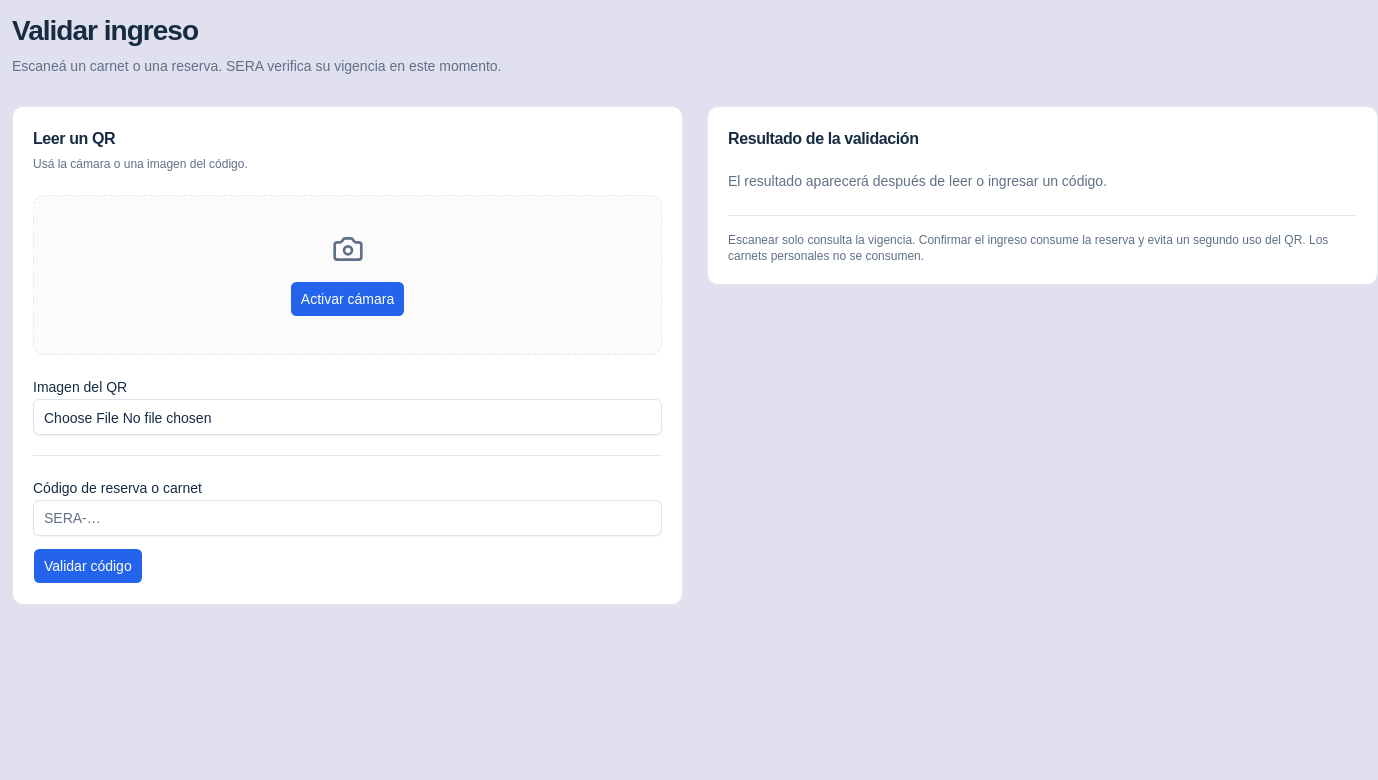
Validación de acceso › lee una vez y libera la cámara al detectar el QR
Click the button "Activar cámara".
click(348, 299)  # box [290,281,405,317]
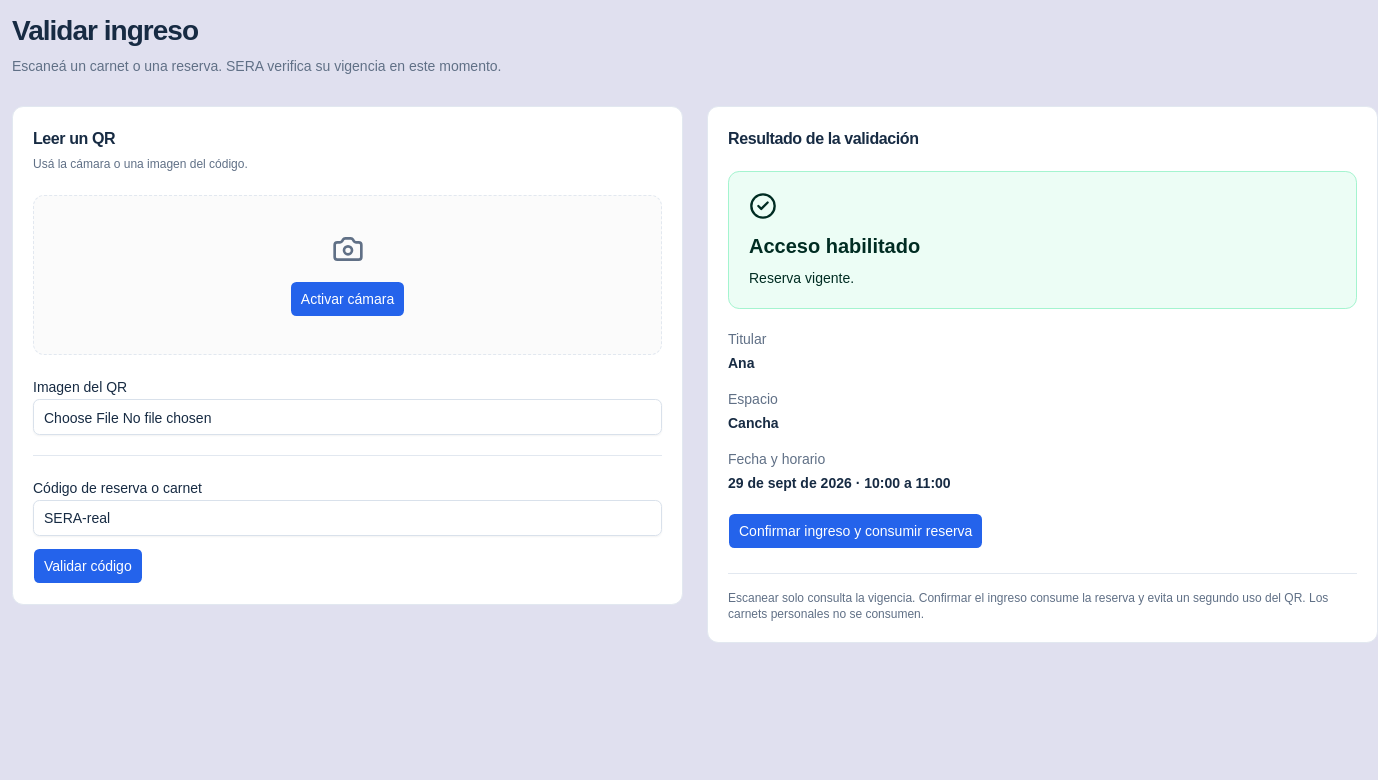
Expected: the heading "Acceso habilitado" is shown, [749,235,920,257]
